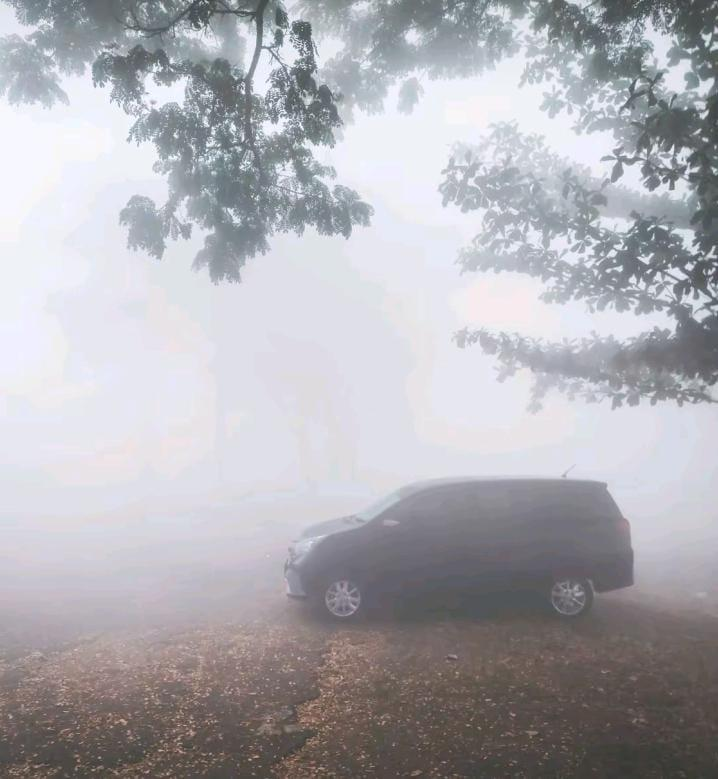Deteksi-Objek-Citra-Berasap: (0, 33, 718, 656)
Kendaraan: (283, 474, 636, 622)
Vegetasi: (435, 0, 718, 416), (0, 0, 383, 288)
